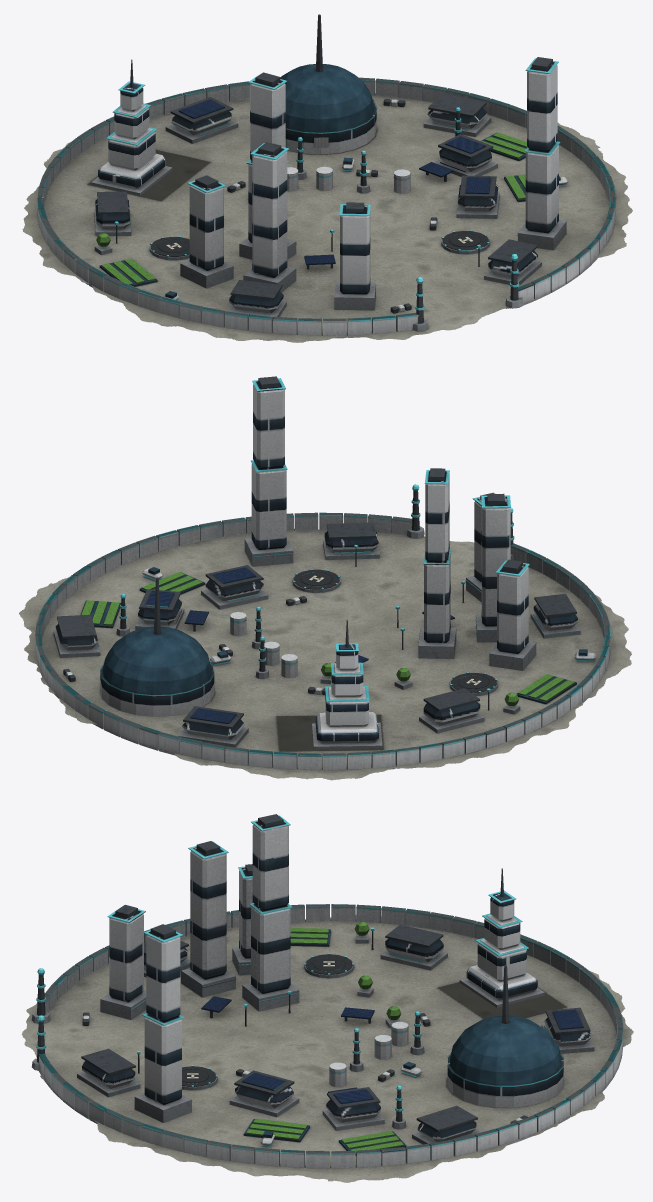
The model's file is future-town-medium-b.glb.
3 views of the same model, one above another, from view 1: azimuth 30°, elevation 25°; view 2: azimuth 150°, elevation 25°; view 3: azimuth 270°, elevation 25° (orthographic). The views are drawn at different scales.
Visible parts, largest first — view 1: LOD0; view 2: LOD0; view 3: LOD0.
Boxes of the visible parts, x1,y1,x2,y2 form: LOD0: (22,14,632,342); LOD0: (19,376,631,780); LOD0: (21,814,633,1182).
Size of what is drawn, in the model's own units: 6.01 by 1.88 by 5.78.
Materials: 3 (3 with a texture image).
